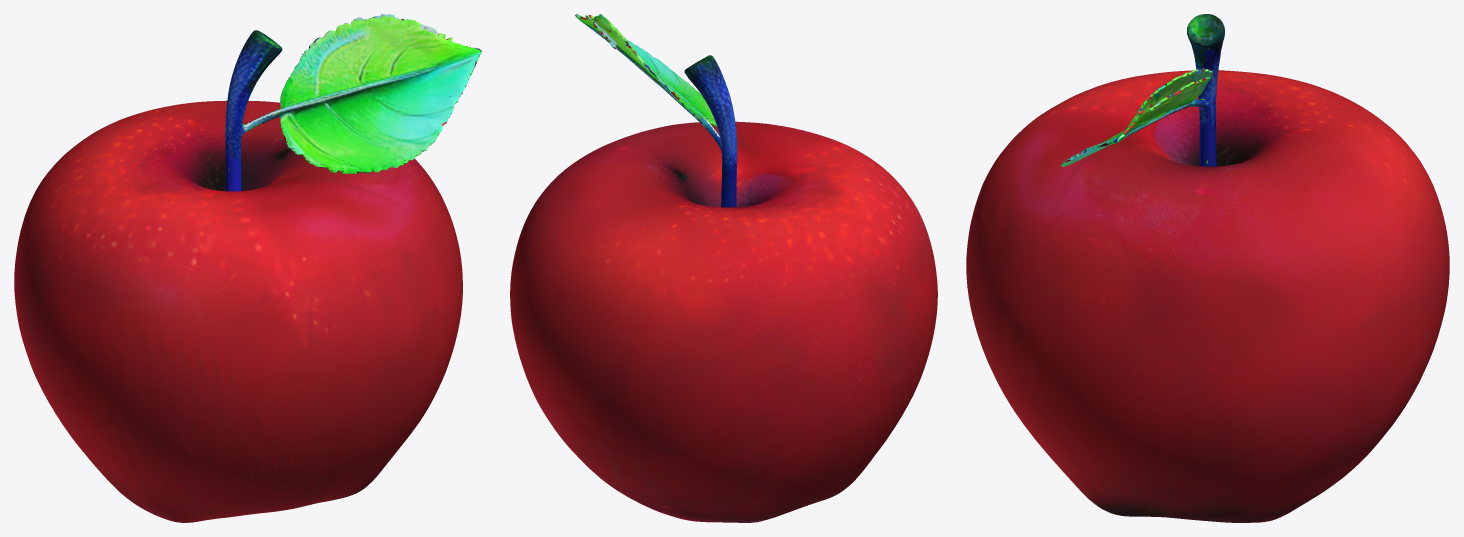
Rendered from apple.fbx.
The picture shows the model from 3 angles, left to right: view 1: azimuth 30°, elevation 25°; view 2: azimuth 150°, elevation 25°; view 3: azimuth 270°, elevation 25°; orthographic projection. The views are drawn at different scales.
Parts seen in each view (by area): view 1: tmp_ial7f_m.ply; view 2: tmp_ial7f_m.ply; view 3: tmp_ial7f_m.ply.
Part boxes in pixels (x1,y1,x2,y2): tmp_ial7f_m.ply: (14,14,481,522); tmp_ial7f_m.ply: (510,14,937,522); tmp_ial7f_m.ply: (966,14,1449,522).
Size of the model in its own units: 186 by 199 by 184.
1 material, 1 textured.
